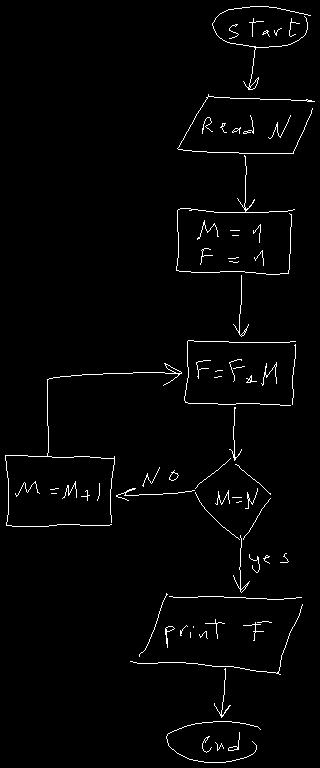arrow: (47, 363, 181, 456), (237, 155, 254, 211), (116, 488, 194, 500), (233, 275, 248, 336), (233, 535, 249, 592), (214, 668, 230, 717), (243, 46, 258, 89), (229, 407, 241, 460)
data: (130, 593, 302, 674), (177, 94, 314, 153)
decision: (195, 458, 270, 539)
process: (176, 208, 294, 274), (5, 455, 114, 526), (184, 340, 295, 405)
terminator: (212, 6, 310, 47), (166, 721, 260, 762)
text: (197, 220, 263, 265), (165, 619, 271, 647), (196, 359, 276, 385), (202, 115, 290, 138), (15, 481, 99, 500), (229, 18, 299, 38), (215, 488, 257, 508), (249, 553, 288, 572), (202, 732, 239, 752), (142, 467, 178, 486)
